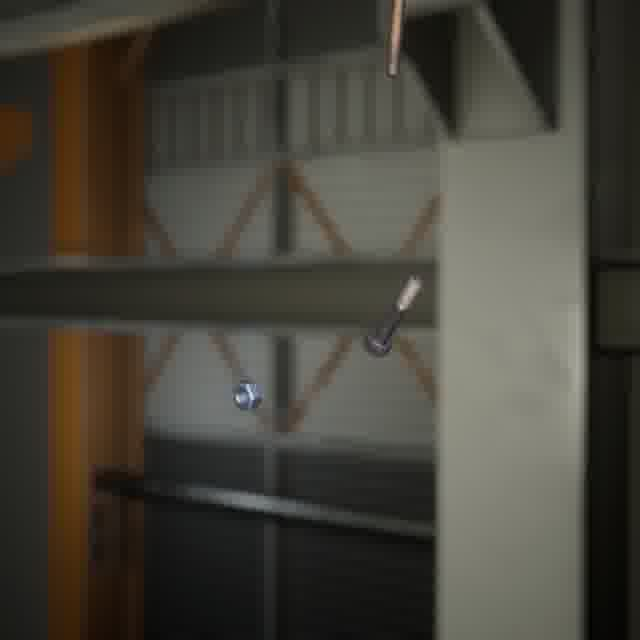bolt: (358, 270, 428, 361), (381, 0, 409, 81)
nut: (228, 375, 266, 415)
